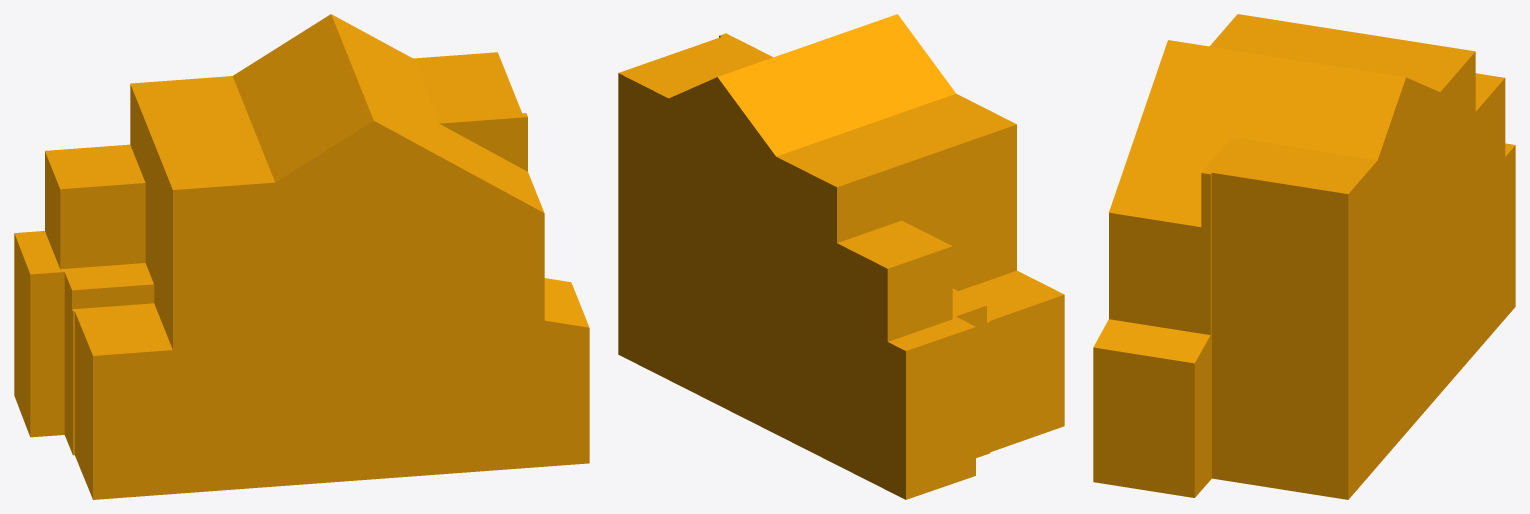
File: DEHB01ALn0001OuC.gltf
3 renders of one model, left to right at view 1: azimuth 30°, elevation 25°; view 2: azimuth 150°, elevation 25°; view 3: azimuth 270°, elevation 25°, orthographic. The views are drawn at different scales.
Visible parts, largest first — view 1: Z_UP; view 2: Z_UP; view 3: Z_UP.
Boxes of the visible parts, x1,y1,x2,y2 form: Z_UP: [14, 14, 589, 499]; Z_UP: [618, 14, 1064, 499]; Z_UP: [1093, 14, 1515, 499].
Bounding box in the file's own units: 22.2 × 17.04 × 18.33.
